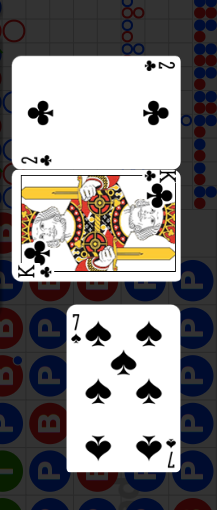2C: (142, 59, 176, 73)
7S: (164, 436, 178, 469), (69, 312, 82, 346)
